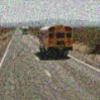buses: (38, 24, 74, 57)
